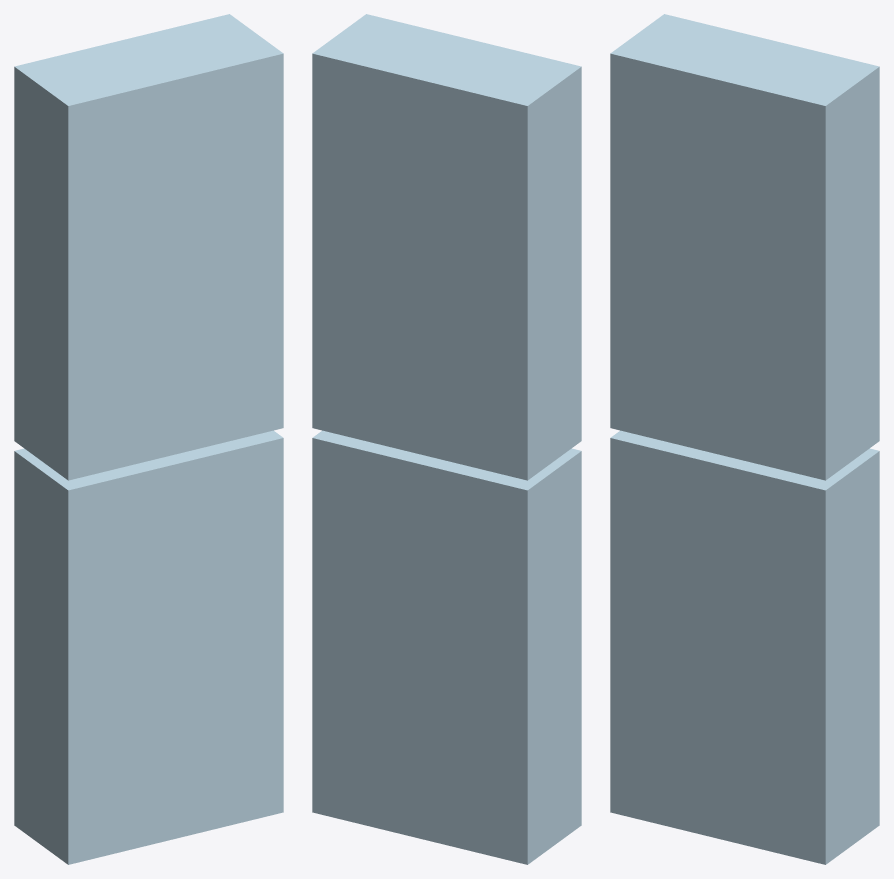
Rendered from boiboites [2].gltf.
3 renders of one model, left to right at view 1: azimuth 30°, elevation 25°; view 2: azimuth 150°, elevation 25°; view 3: azimuth 330°, elevation 25°, orthographic.
Visible parts, largest first — view 1: Part 1 (×2); view 2: Part 1 (×2); view 3: Part 1 (×2).
Boxes of the visible parts, <box> form: Part 1 (×2): <box>14,14,283,864</box>; Part 1 (×2): <box>312,14,581,864</box>; Part 1 (×2): <box>610,14,879,864</box>.
Bounding box in the file's own units: 0.0704 × 0.2369 × 0.0306.
